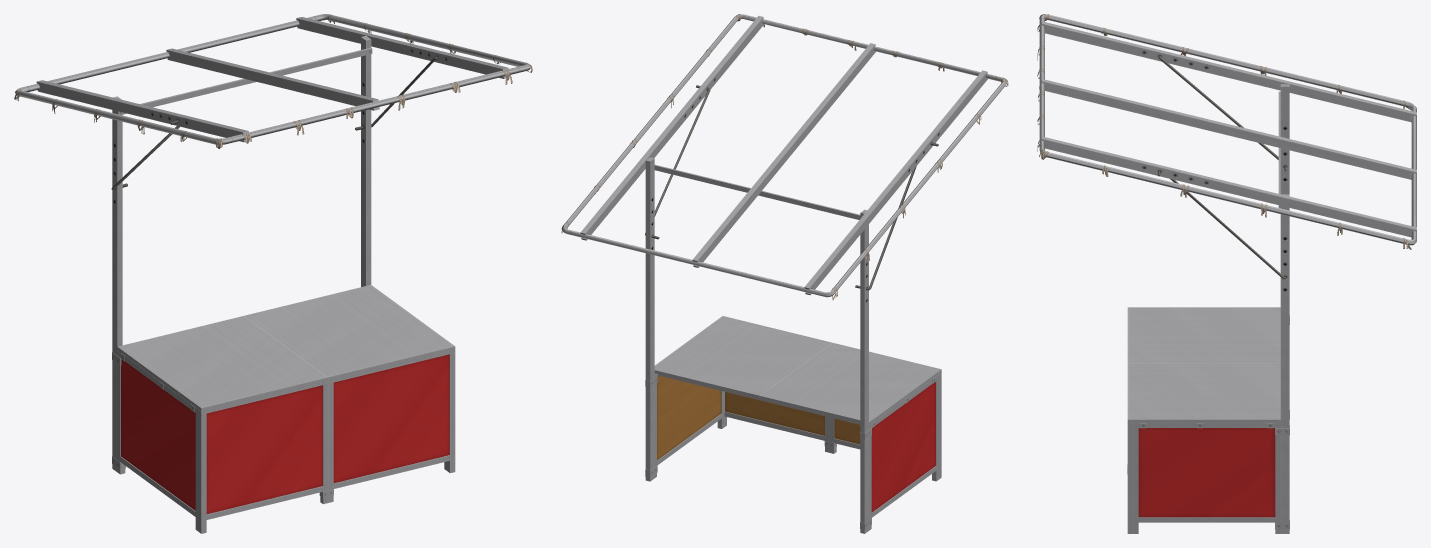
The model's file is jsf_2P_s01_c06_t01.fbx.
3 renders of one model, left to right at view 1: azimuth 30°, elevation 25°; view 2: azimuth 150°, elevation 25°; view 3: azimuth 270°, elevation 25°, orthographic. The views are drawn at different scales.
Visible parts, largest first — view 1: Base_s01_c06, Pillar2_s01, Table_2P_s01_t01, Rope_2P_s01; view 2: Pillar2_s01, Table_2P_s01_t01, Base_s01_c06, Rope_2P_s01; view 3: Pillar2_s01, Table_2P_s01_t01, Base_s01_c06, Rope_2P_s01.
Boxes of the visible parts, box(x1,y1,x2,y2) form: Base_s01_c06: box(112, 346, 455, 533); Pillar2_s01: box(15, 14, 530, 471); Table_2P_s01_t01: box(117, 285, 453, 412); Rope_2P_s01: box(14, 14, 532, 148); Pillar2_s01: box(561, 14, 1006, 533); Table_2P_s01_t01: box(654, 316, 940, 427); Base_s01_c06: box(645, 316, 941, 530); Rope_2P_s01: box(561, 14, 1008, 299); Pillar2_s01: box(1039, 14, 1416, 533); Table_2P_s01_t01: box(1129, 307, 1280, 428); Base_s01_c06: box(1127, 307, 1289, 533); Rope_2P_s01: box(1037, 14, 1411, 249).
Size of the model in its own units: 186 by 244 by 211.
